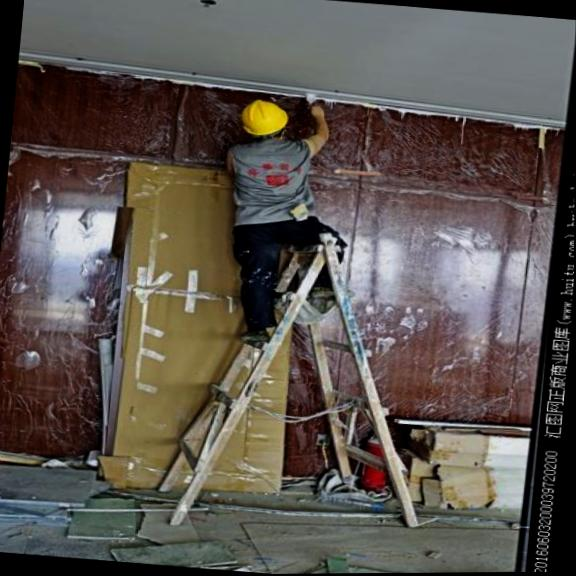no_safety_vest: (212, 135, 329, 238)
